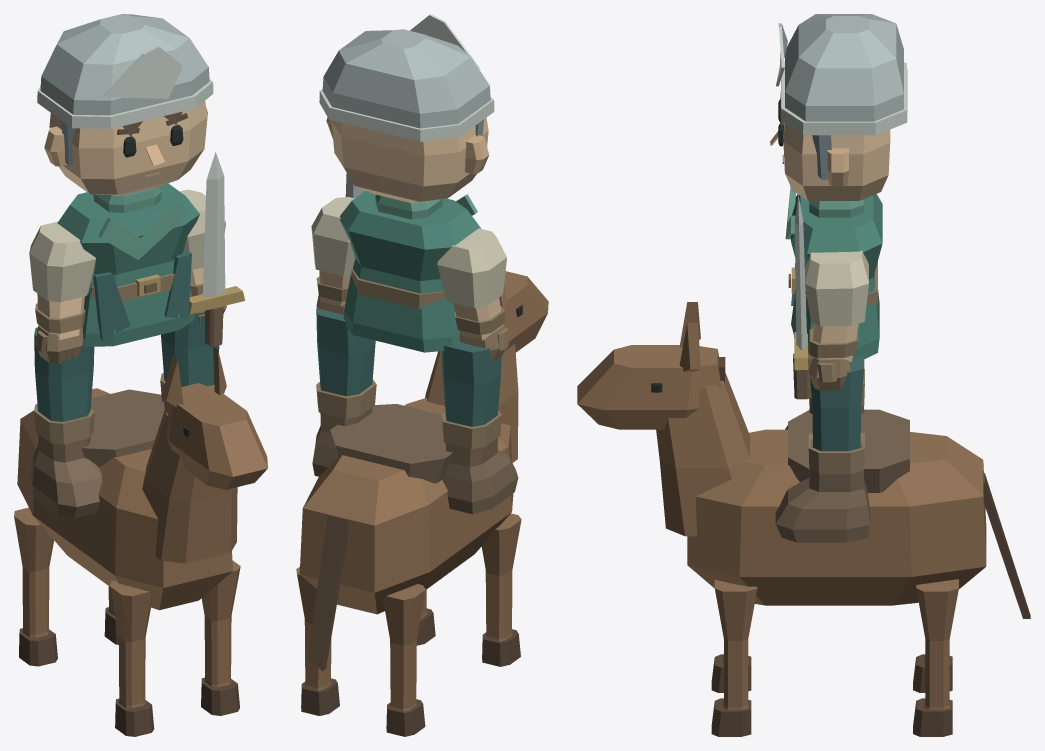
Rendered from rider-D7OqCRJW.glb.
The picture shows the model from 3 angles, left to right: view 1: azimuth 30°, elevation 25°; view 2: azimuth 150°, elevation 25°; view 3: azimuth 270°, elevation 25°; orthographic projection. The views are drawn at different scales.
Parts seen in each view (by area): view 1: Horse ribcage, Helmet plate shell, Tunic tailored body, Horse neck, Sculpted jaw cheeks forehead, Horse head muzzle, Boot shaped ankle and toe L, Saddle, Sleeve L, Horse shin, Trouser L, Horse shin.001 (+23 smaller); view 2: Horse ribcage, Tunic tailored body, Helmet plate shell, Sculpted jaw cheeks forehead, Saddle, Trouser L, Boot shaped ankle and toe L, Sleeve L, Trouser R, Horse shin.001, Horse shin, Horse tail (+21 smaller); view 3: Horse ribcage, Helmet plate shell, Horse head muzzle, Horse neck, Boot shaped ankle and toe R, Sculpted jaw cheeks forehead, Tunic tailored body, Saddle, Sleeve R, Horse shin.003, Horse shin.002, Trouser R (+12 smaller).
Part boxes in pixels (bbox=[...]): Horse ribcage: bbox=[17, 388, 232, 610]; Helmet plate shell: bbox=[40, 14, 209, 115]; Tunic tailored body: bbox=[57, 183, 199, 346]; Horse neck: bbox=[142, 411, 237, 563]; Sculpted jaw cheeks forehead: bbox=[49, 101, 207, 195]; Horse head muzzle: bbox=[163, 383, 267, 489]; Boot shaped ankle and toe L: bbox=[30, 408, 102, 517]; Saddle: bbox=[81, 389, 164, 467]; Sleeve L: bbox=[29, 221, 95, 301]; Horse shin: bbox=[110, 580, 152, 708]; Trouser L: bbox=[34, 327, 94, 421]; Horse shin.001: bbox=[14, 507, 53, 637]; Horse ribcage: bbox=[299, 397, 513, 614]; Tunic tailored body: bbox=[339, 190, 480, 352]; Helmet plate shell: bbox=[322, 29, 490, 128]; Sculpted jaw cheeks forehead: bbox=[331, 117, 488, 203]; Saddle: bbox=[330, 404, 452, 483]; Trouser L: bbox=[442, 340, 501, 426]; Boot shaped ankle and toe L: bbox=[442, 414, 518, 514]; Sleeve L: bbox=[437, 228, 506, 308]; Trouser R: bbox=[316, 307, 375, 396]; Horse shin.001: bbox=[383, 584, 425, 711]; Horse shin: bbox=[481, 513, 521, 641]; Horse tail: bbox=[307, 514, 348, 671]; Horse ribcage: bbox=[687, 429, 986, 605]; Helmet plate shell: bbox=[785, 14, 903, 121]; Horse head muzzle: bbox=[577, 345, 721, 429]; Horse neck: bbox=[656, 373, 750, 536]; Boot shaped ankle and toe R: bbox=[775, 439, 870, 542]; Sculpted jaw cheeks forehead: bbox=[783, 123, 890, 200]; Tunic tailored body: bbox=[791, 194, 882, 358]; Saddle: bbox=[788, 409, 909, 492]; Sleeve R: bbox=[805, 250, 868, 326]; Horse shin.003: bbox=[916, 579, 958, 709]; Horse shin.002: bbox=[714, 580, 757, 709]; Trouser R: bbox=[809, 354, 864, 451].
Bounding box in the file's own units: 0.76 × 2.47 × 1.49.
